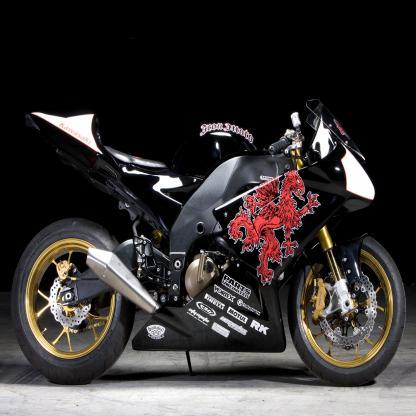Motorcycle: (12, 86, 408, 385)
